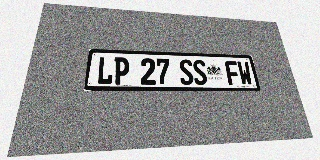2: (141, 58, 156, 85)
7: (155, 58, 171, 85)
F: (224, 61, 241, 85)
L: (96, 57, 114, 85)
P: (113, 57, 129, 85)
S: (192, 60, 208, 85), (179, 59, 194, 85)
W: (237, 61, 253, 85)
